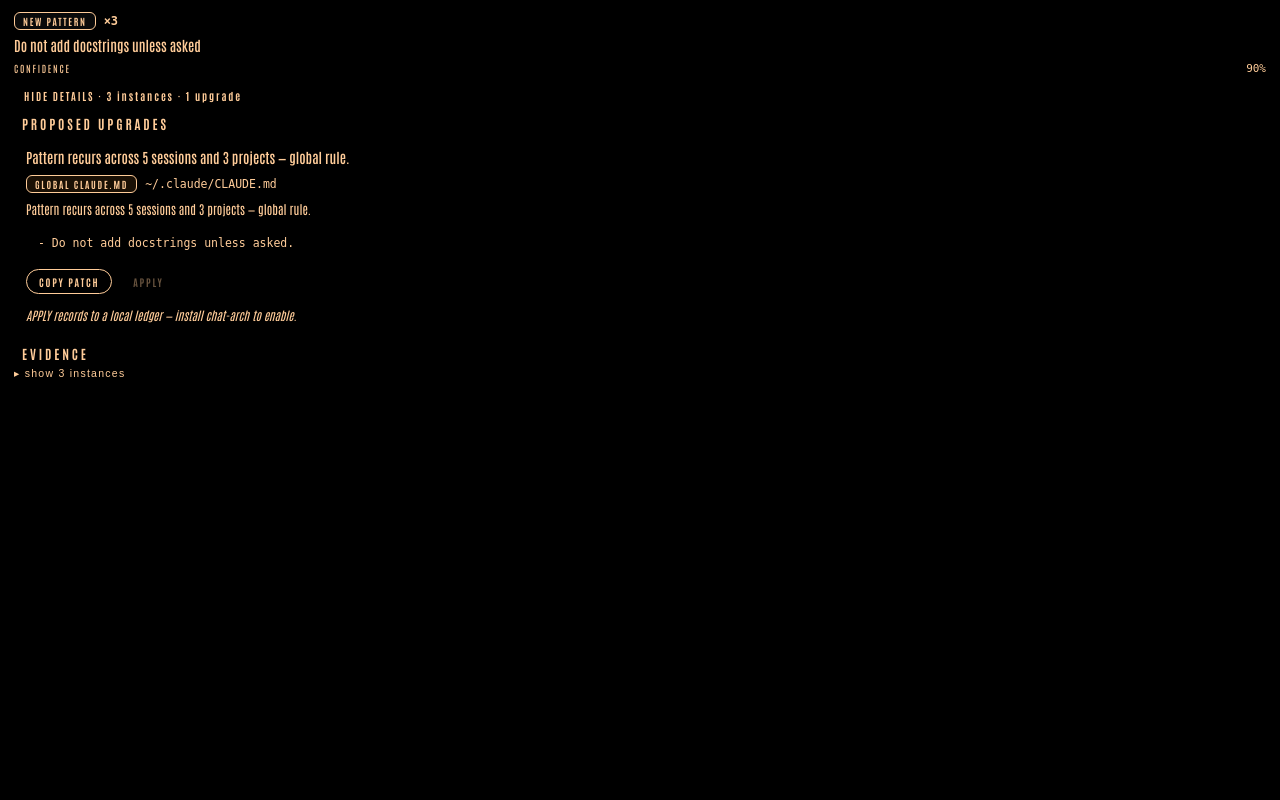
Test case: CorrectionPatternCard › section ordering (proposals before evidence) › opens EVIDENCE when the toggle is clicked
Click the button "▸ show 3 instances": (70, 373) x1=14 y1=367 x2=1266 y2=379
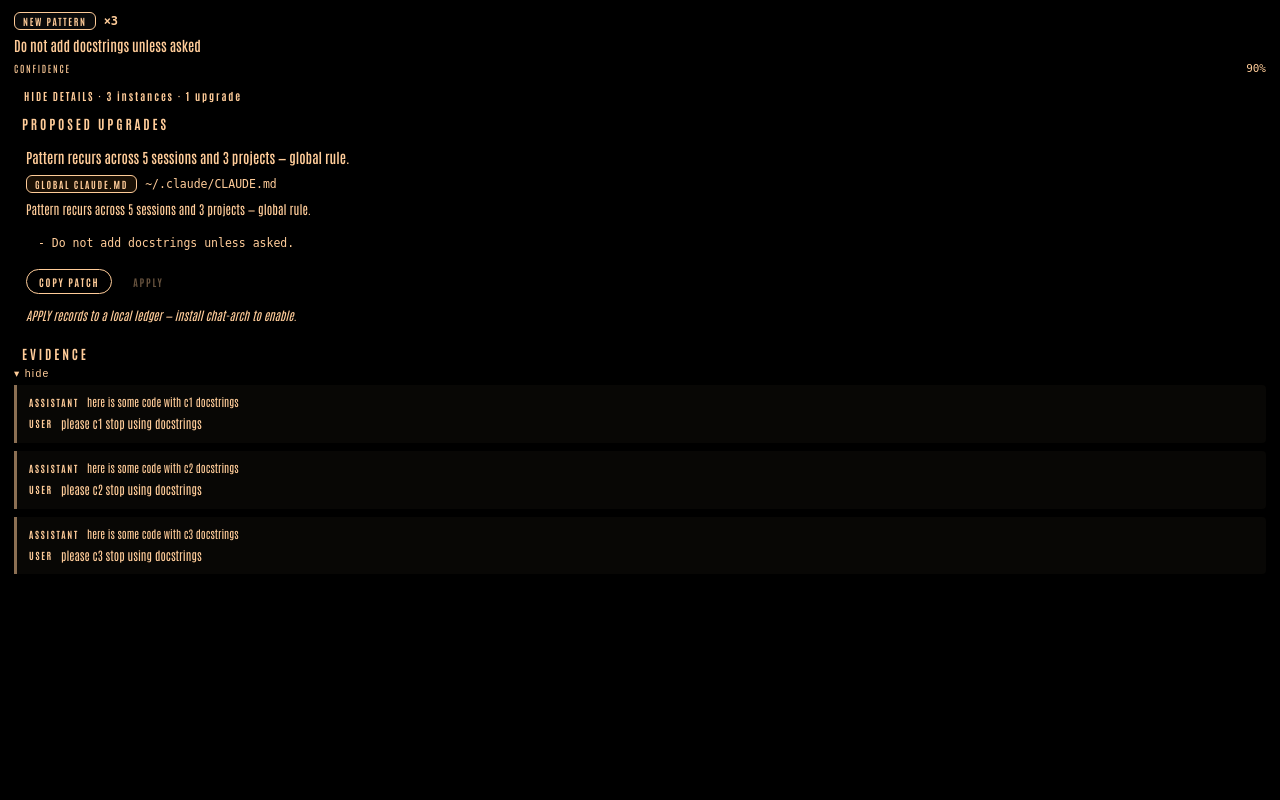
Result: the text "please c1 stop using docstrings" is shown at x1=61 y1=414 x2=202 y2=433
